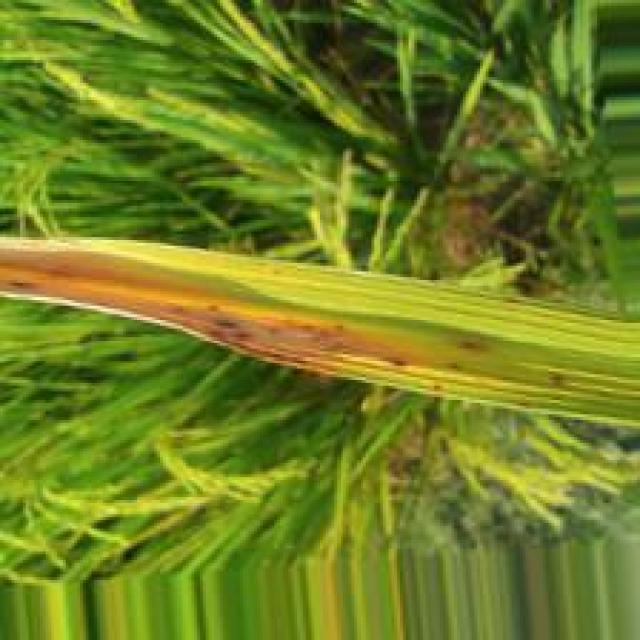Bacterial_Leaf_Blight: (2, 242, 450, 376), (459, 340, 495, 356), (551, 371, 570, 387), (505, 296, 526, 308), (432, 379, 449, 391), (449, 361, 463, 372), (518, 399, 533, 408)
